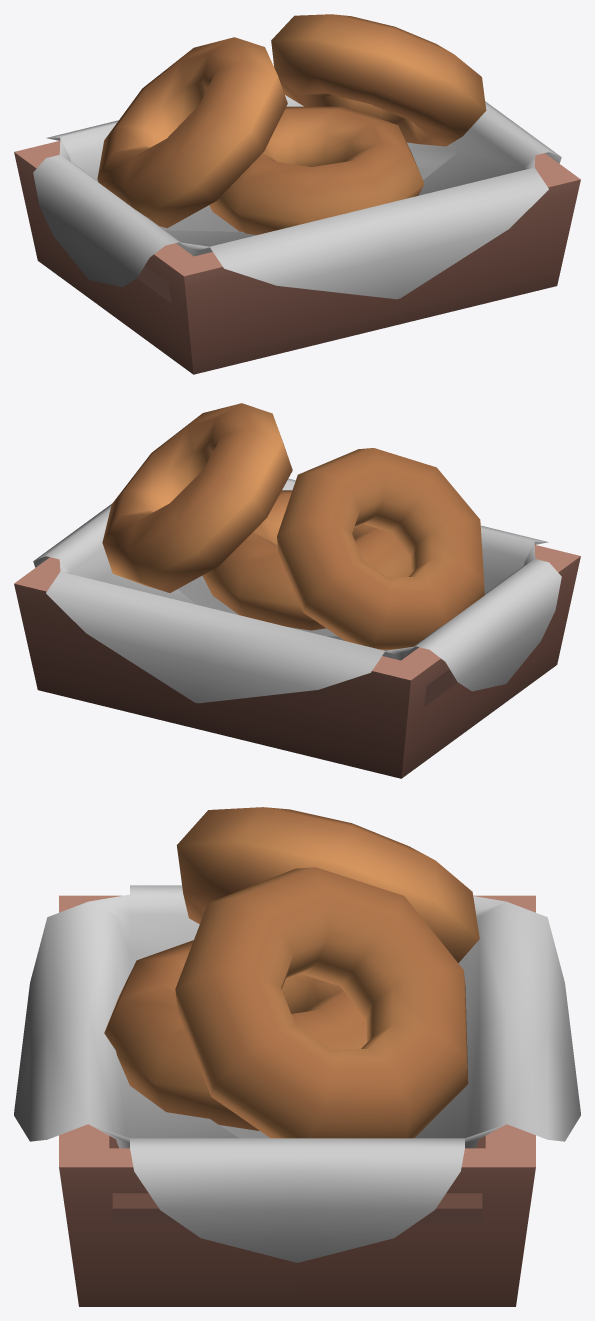
Rendered from Bagel.fbx.
3 renders of one model, top to bottom at view 1: azimuth 30°, elevation 25°; view 2: azimuth 150°, elevation 25°; view 3: azimuth 270°, elevation 25°, orthographic. The views are drawn at different scales.
Parts seen in each view (by area): view 1: Plane.003, Plane.002, Torus.002, Torus.003, Torus.001; view 2: Plane.003, Plane.002, Torus.002, Torus.003, Torus.001; view 3: Plane.003, Torus.003, Plane.002, Torus.002, Torus.001.
Boxes of the visible parts, bbox=[...] form: Plane.003: bbox=[33, 95, 561, 299]; Plane.002: bbox=[14, 140, 580, 374]; Torus.002: bbox=[97, 37, 287, 228]; Torus.003: bbox=[271, 14, 486, 146]; Torus.001: bbox=[209, 106, 424, 235]; Plane.003: bbox=[33, 478, 561, 703]; Plane.002: bbox=[14, 545, 580, 778]; Torus.002: bbox=[277, 448, 484, 650]; Torus.003: bbox=[102, 403, 292, 592]; Torus.001: bbox=[202, 490, 411, 630]; Plane.003: bbox=[14, 885, 580, 1262]; Torus.003: bbox=[175, 867, 468, 1138]; Plane.002: bbox=[59, 895, 535, 1306]; Torus.002: bbox=[176, 807, 479, 962]; Torus.001: bbox=[104, 940, 366, 1130].
Size of the model in its own units: 24.38 by 13.62 by 20.41.
